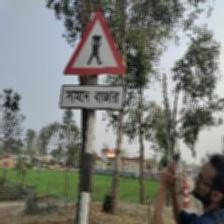Market-in-front: (59, 9, 126, 116)
